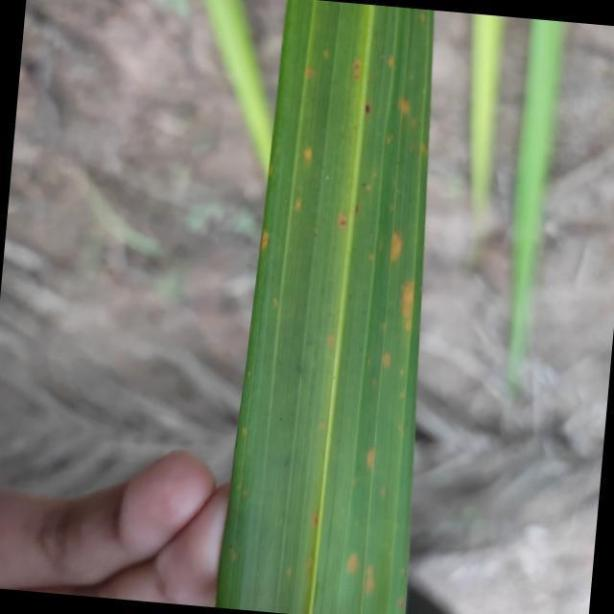Kalium: (219, 3, 437, 614)
